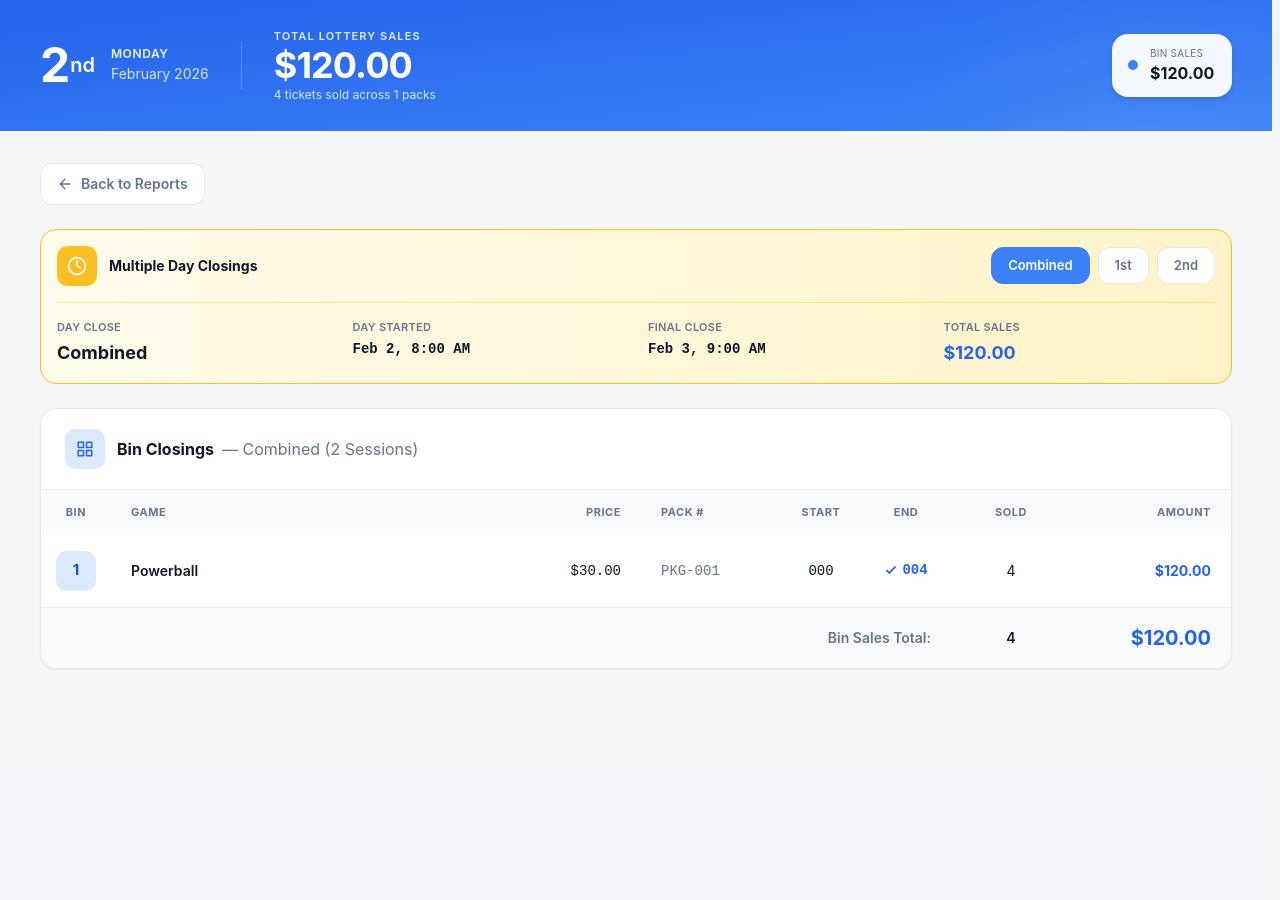
Test: LotteryDayReportPage › Multi-Closing Date+Time Format (BIZ-002) › Multiple Closings - Date+Time Format › should show different dates in details grid when sessions span midnight (critical business case)
This screenshot has width=1280, height=900.
# Click session #2 to see its details in the merged grid
Click the button "2nd". click: (1186, 266)
box: [1157,247,1215,284]
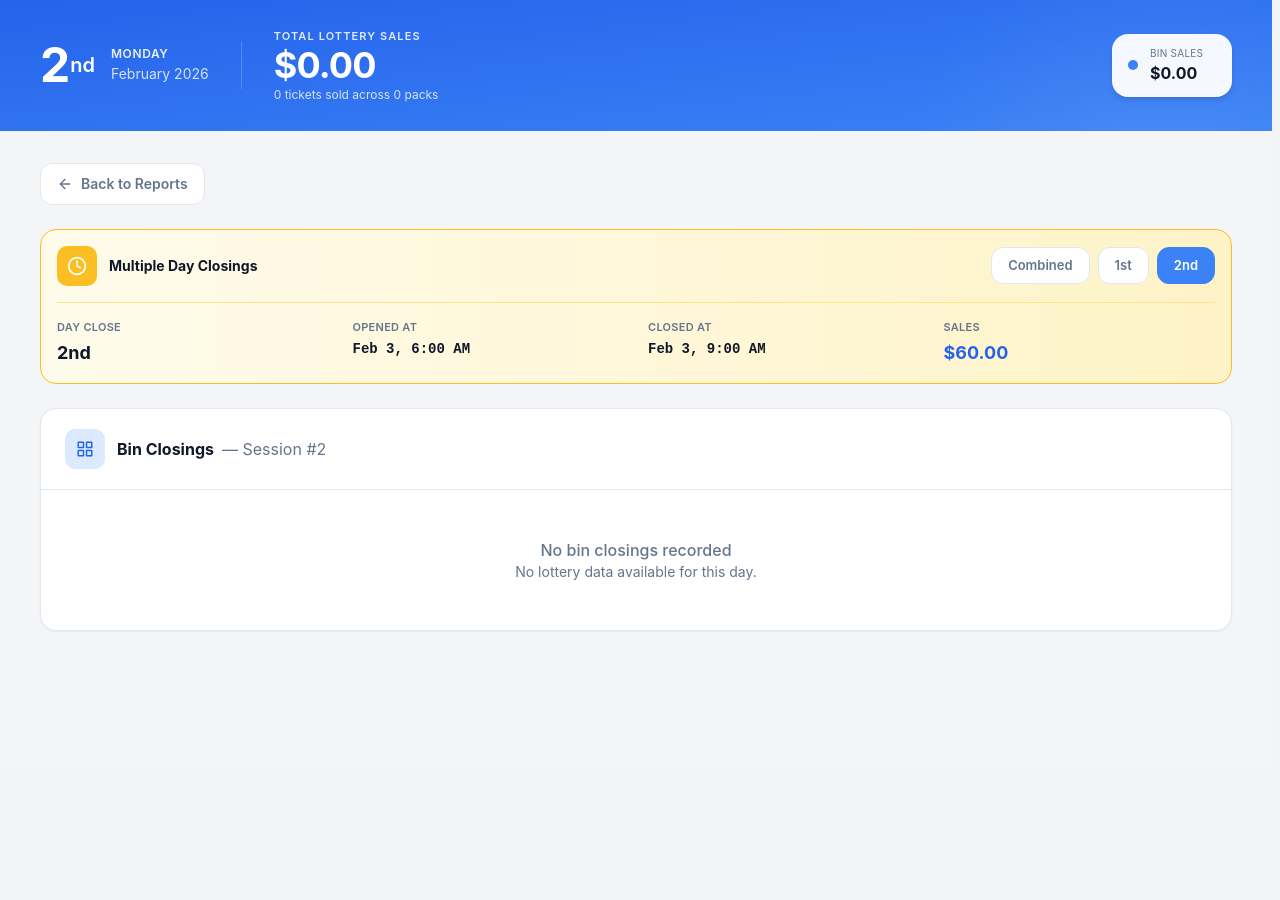
Expected: the text "Feb 3, 6:00 AM" is shown, [352,341,470,357]
Now the text "Opened At" is shown, box [352,320,417,334]
Now the text "Closed At" is shown, box [648,320,712,334]
